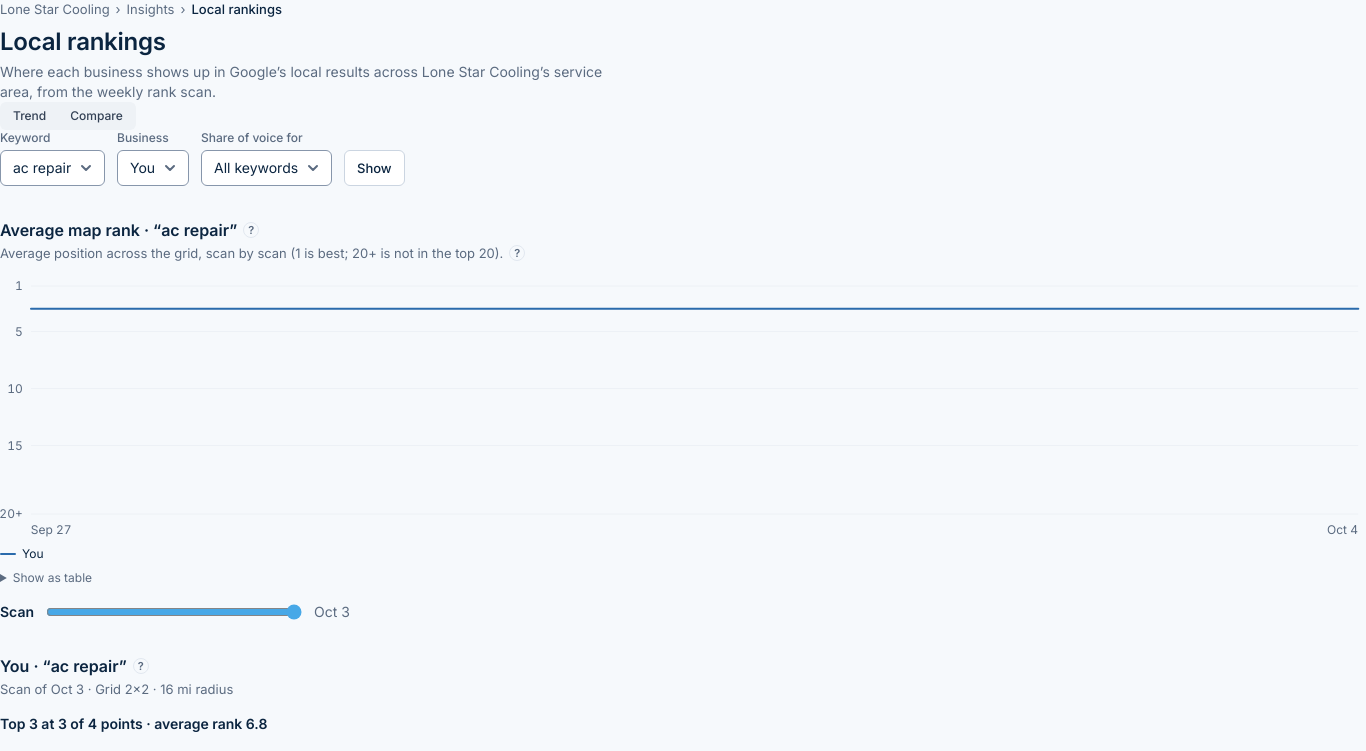
Test: client batch A: Rankings scan facts come from the code › the schedule tip tells a client the scan runs once a week and never names the Manual scan limits
Click the button named "When scans run" at (517, 253), box [509,245,525,261]
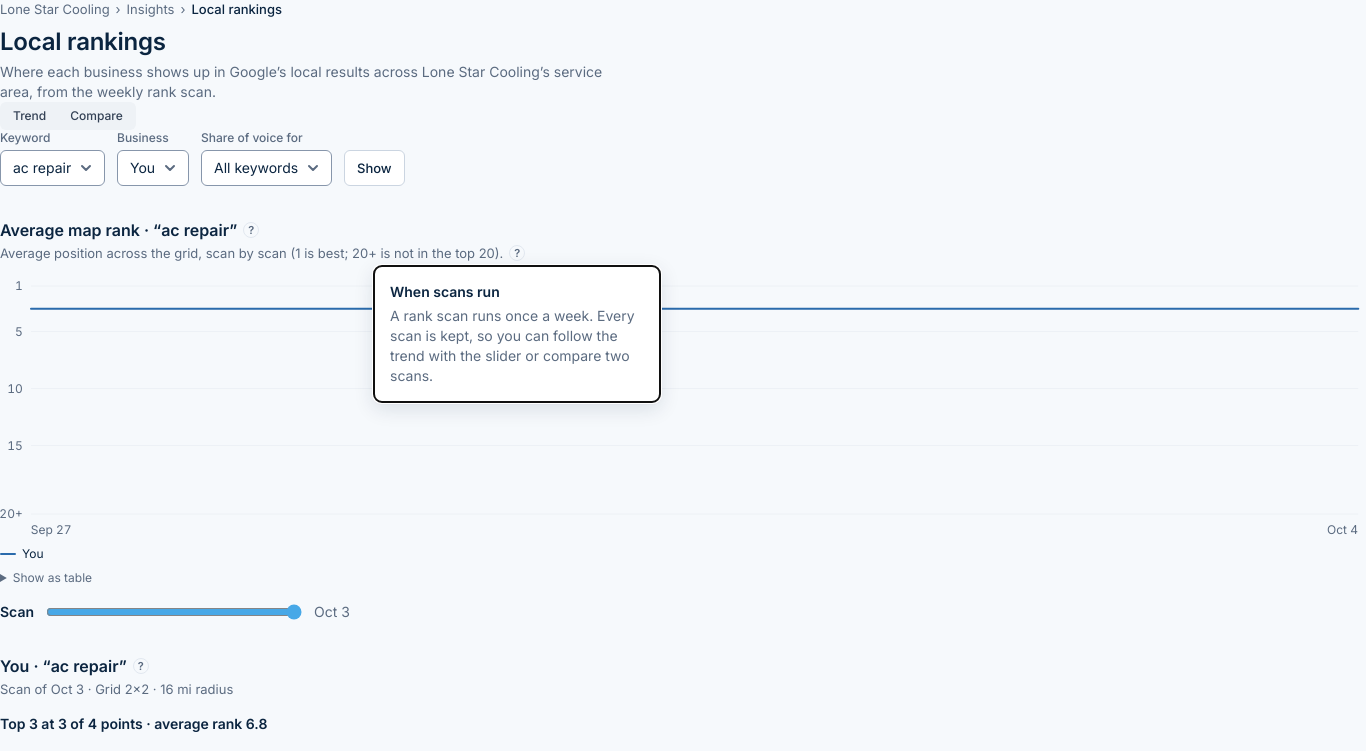
Check: the text "once a week" is shown, box [390,307,635,384]
